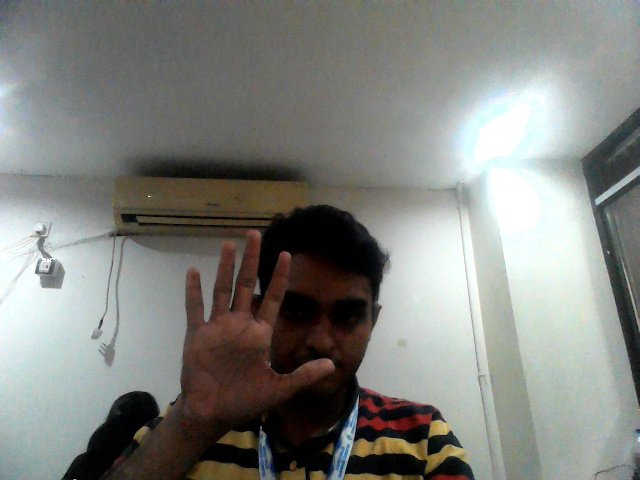palm: (172, 223, 337, 418)
